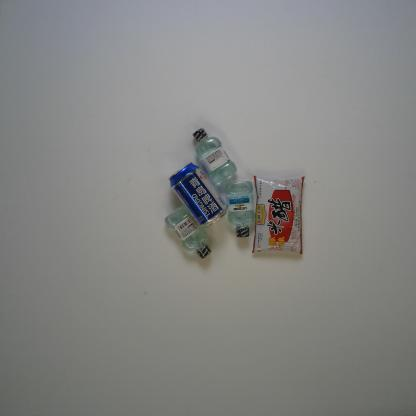Alcohol: (167, 161, 229, 229)
Personal Hygiene: (164, 204, 212, 260), (192, 127, 238, 185), (224, 180, 256, 239)
Seasoner: (251, 174, 305, 256)
